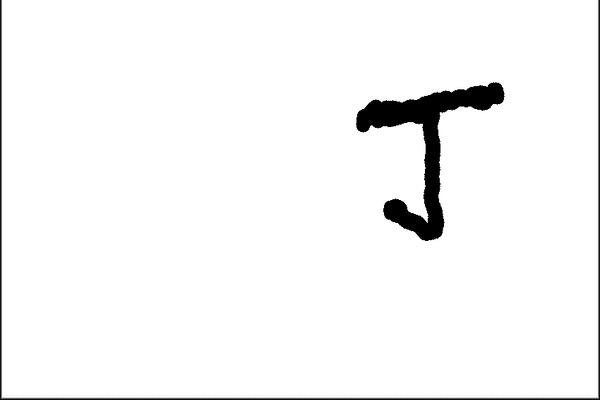J: (351, 77, 513, 249)
